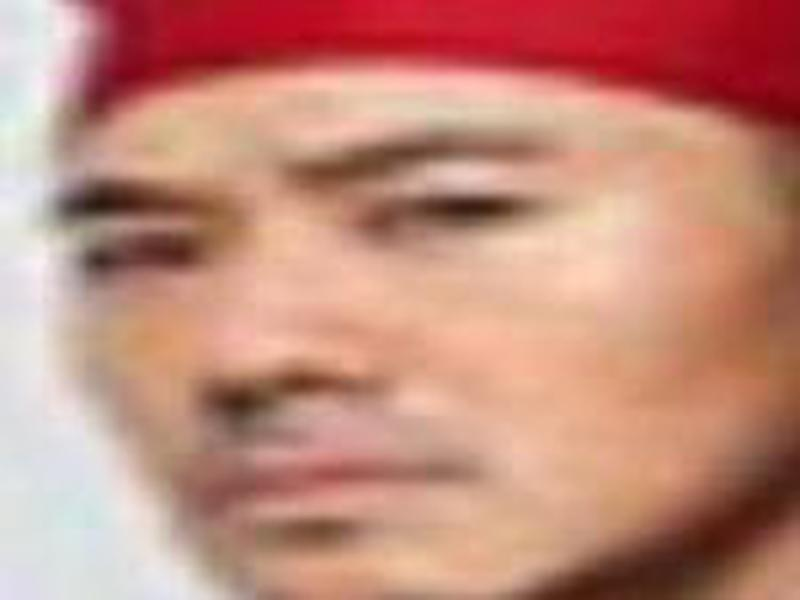without_mask: (48, 106, 782, 600)
